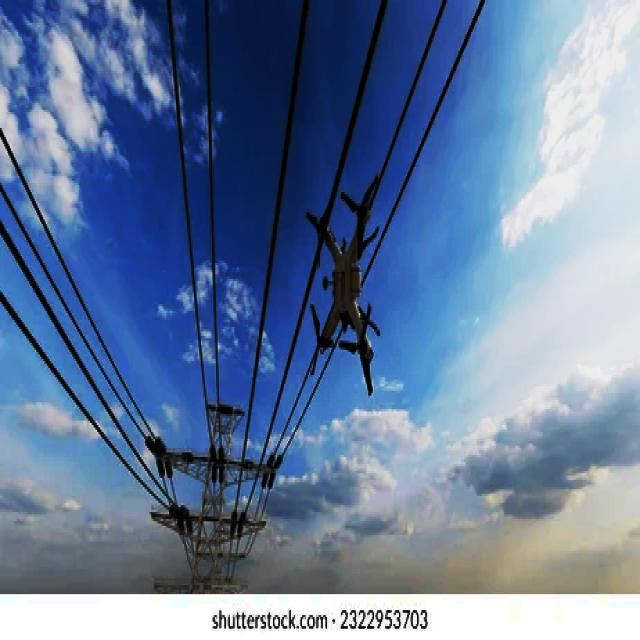obstruction: (320, 181, 378, 391)
poles: (145, 400, 281, 592)
wires: (317, 176, 378, 384)
